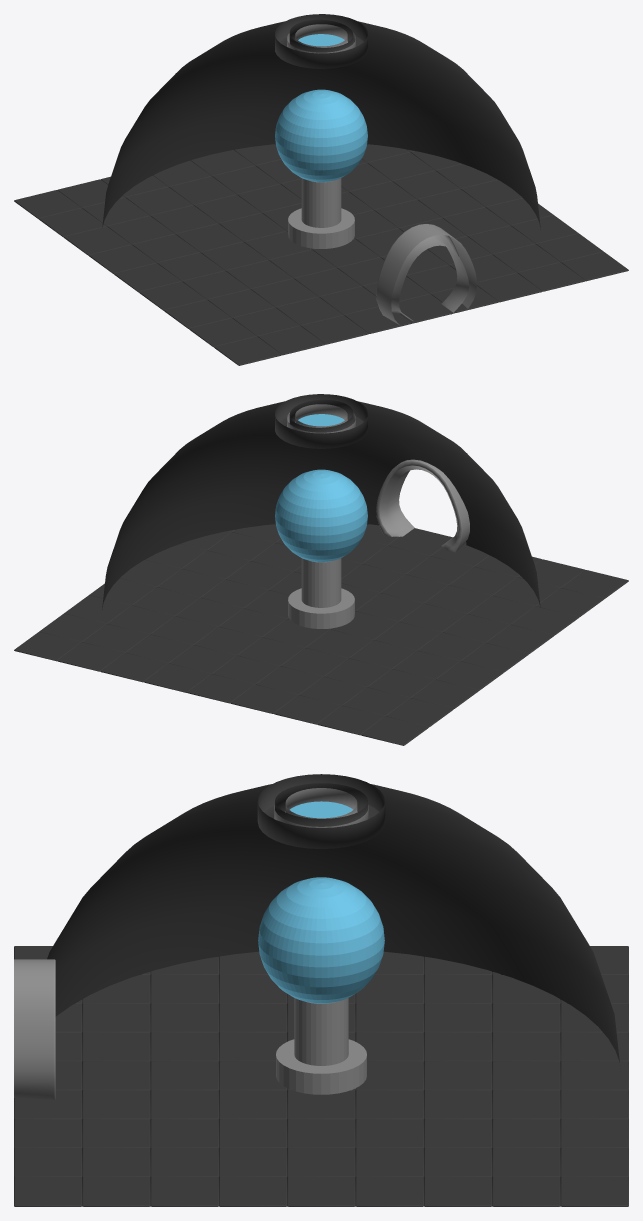
Rendered from SM_RobotRoom_A.fbx.
The picture shows the model from 3 angles, top to bottom: view 1: azimuth 30°, elevation 25°; view 2: azimuth 150°, elevation 25°; view 3: azimuth 270°, elevation 25°; orthographic projection. The views are drawn at different scales.
Parts seen in each view (by area): view 1: SM_RobotRoom_A; view 2: SM_RobotRoom_A; view 3: SM_RobotRoom_A.
Part boxes in pixels (left/top/right/bottom): SM_RobotRoom_A: left=14, top=14, right=628, bottom=365; SM_RobotRoom_A: left=14, top=394, right=628, bottom=745; SM_RobotRoom_A: left=14, top=774, right=628, bottom=1206.
Size of what is drawn, in the model's own units: 1800 by 912 by 1800.
